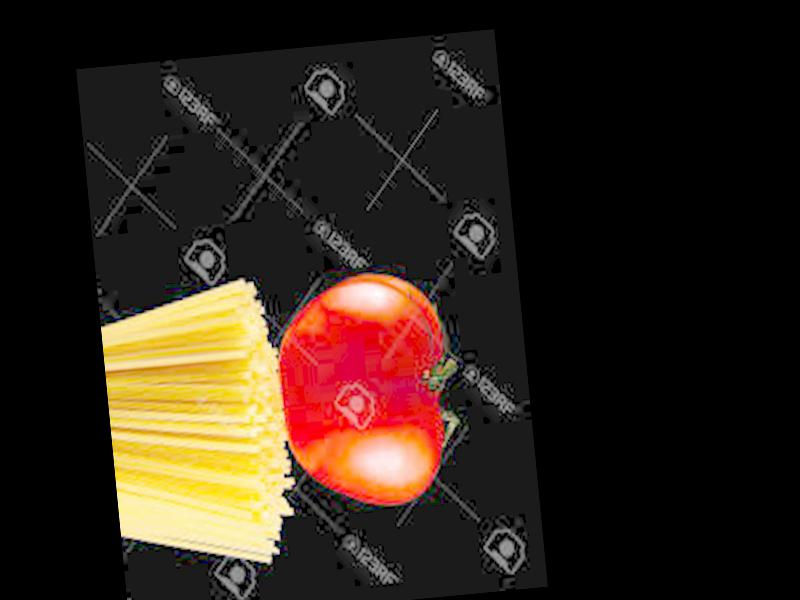Tomato: (269, 271, 458, 513)
